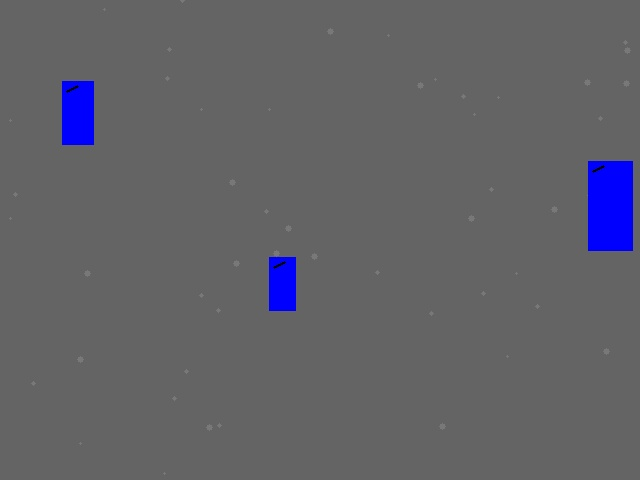motorcycle: (588, 161, 632, 250), (62, 81, 93, 144), (269, 257, 295, 310)
